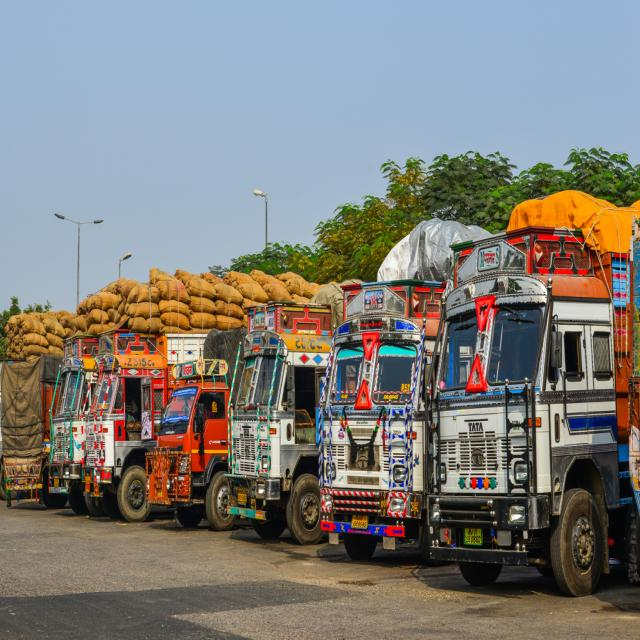Truck: (434, 239, 640, 598), (328, 284, 446, 560), (227, 311, 345, 548), (87, 320, 182, 520), (154, 361, 260, 520), (48, 322, 119, 508)
